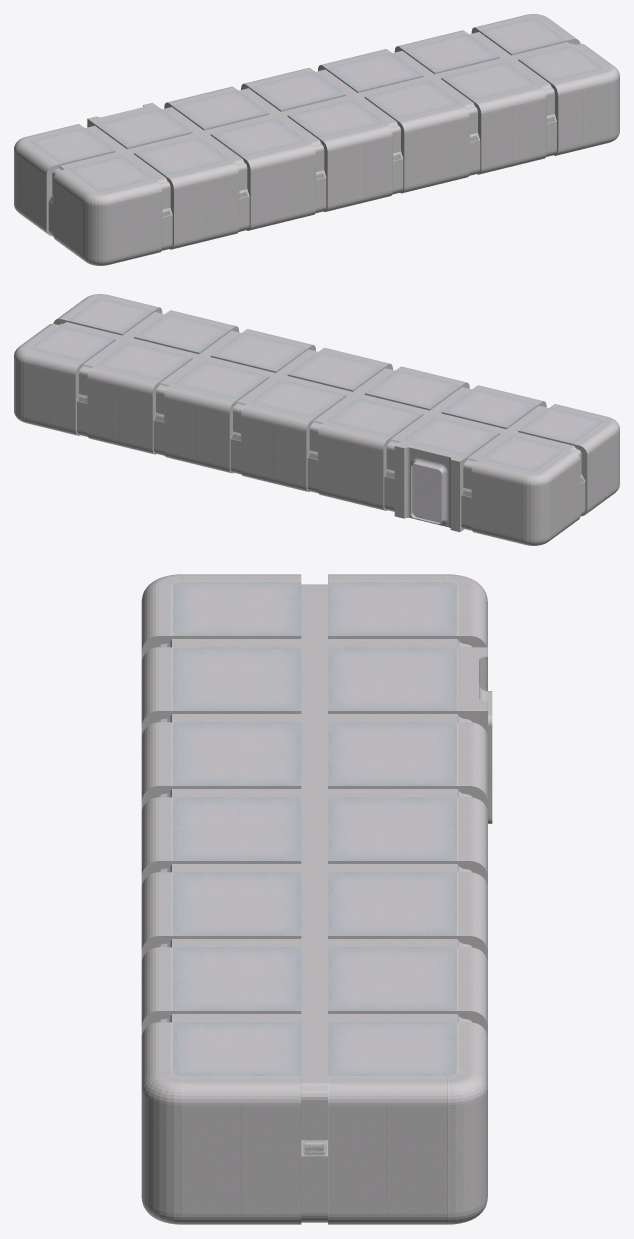
The model's file is thm_spc_corvette_dungeon_r55_armorybackroom55_mesh_r55.fbx.
3 views of the same model, one above another, from view 1: azimuth 30°, elevation 25°; view 2: azimuth 150°, elevation 25°; view 3: azimuth 270°, elevation 25° (orthographic). The views are drawn at different scales.
Visible parts, largest first — view 1: mesh_node; view 2: mesh_node; view 3: mesh_node.
Boxes of the visible parts, bbox=[...] form: mesh_node: bbox=[14, 14, 619, 265]; mesh_node: bbox=[14, 294, 619, 545]; mesh_node: bbox=[141, 574, 492, 1224].
Size of the model in its own units: 27.8 by 3.5 by 7.9.
